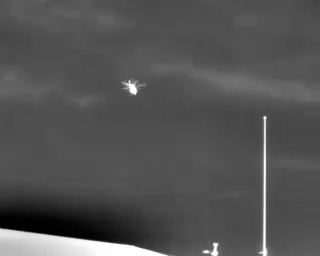HELICOPTER: (117, 73, 151, 102)
